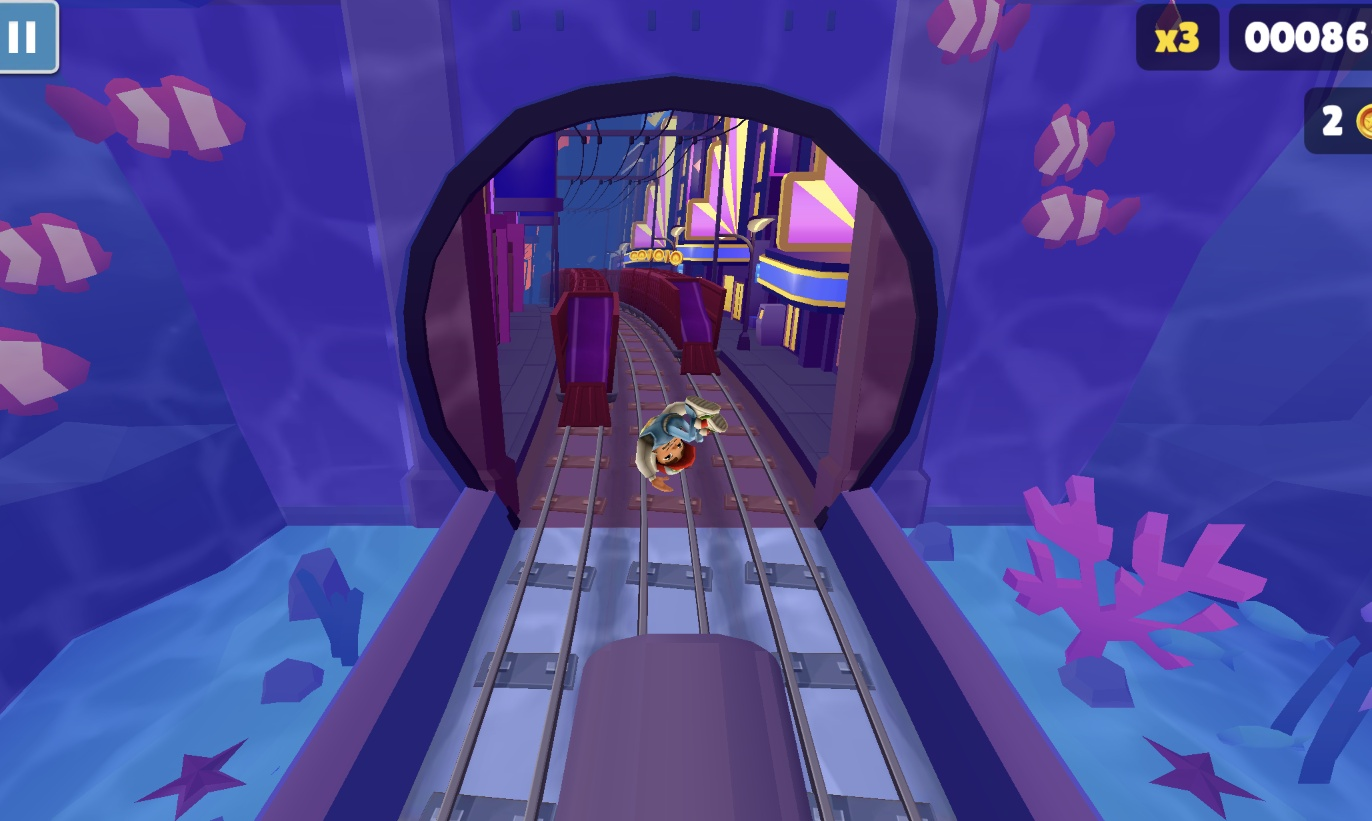train: (540, 635, 827, 821), (618, 269, 725, 381), (551, 270, 622, 430)
